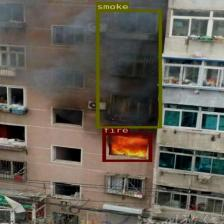fire: (102, 132, 151, 162)
smoke: (96, 9, 161, 128)
